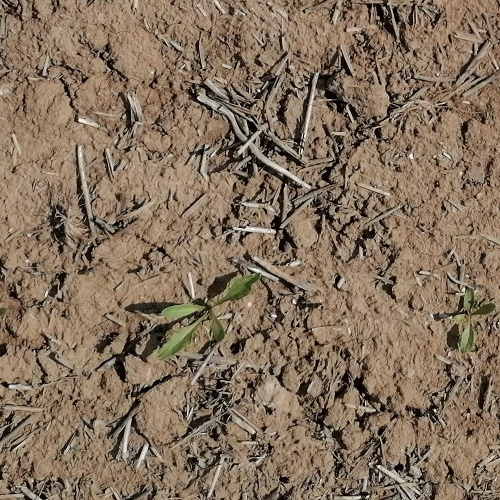beet: (157, 272, 261, 360), (446, 289, 497, 353)
